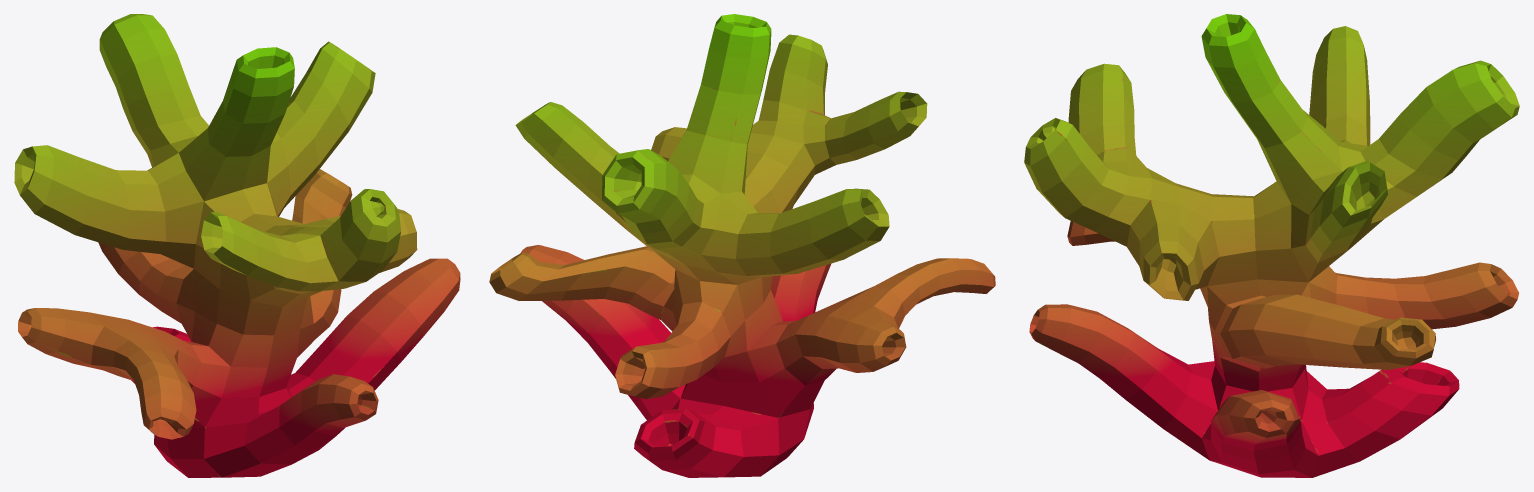
File: CoralV2.fbx
The picture shows the model from 3 angles, left to right: view 1: azimuth 30°, elevation 25°; view 2: azimuth 150°, elevation 25°; view 3: azimuth 270°, elevation 25°; orthographic projection. The views are drawn at different scales.
Parts seen in each view (by area): view 1: Cube; view 2: Cube; view 3: Cube.
Boxes of the visible parts, x1,y1,x2,y2 form: Cube: (14, 14, 460, 477); Cube: (489, 14, 995, 477); Cube: (1024, 14, 1519, 477).
Size of the model in its own units: 75 by 75 by 75.
